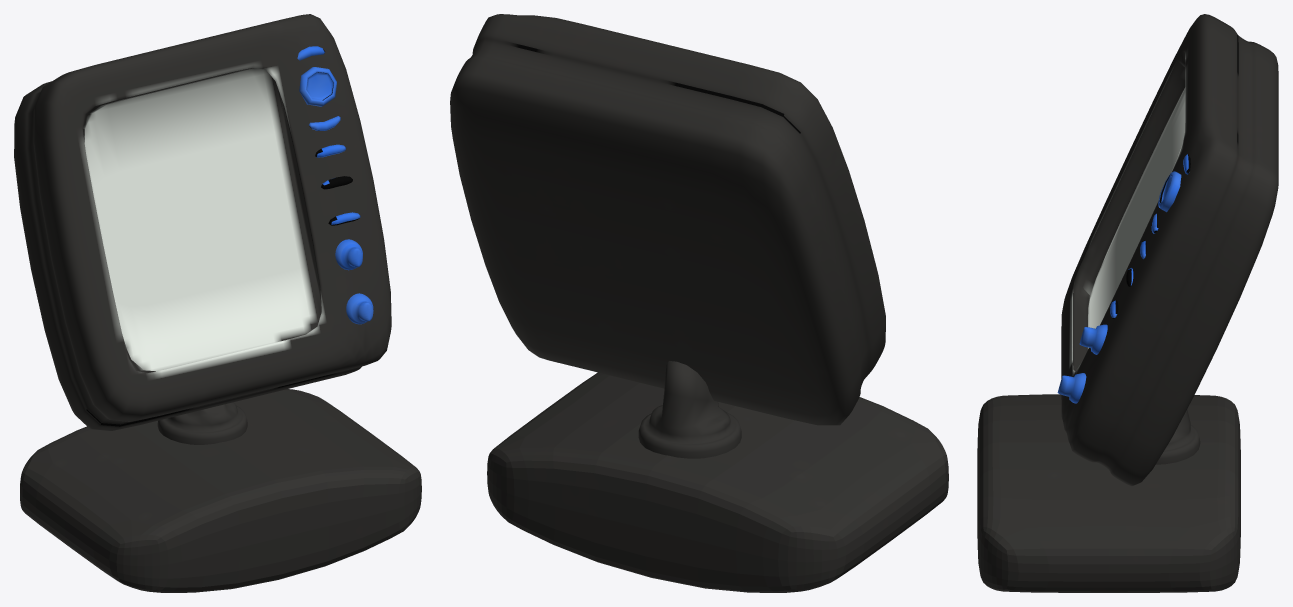
The model's file is Radar.fbx.
The picture shows the model from 3 angles, left to right: view 1: azimuth 30°, elevation 25°; view 2: azimuth 150°, elevation 25°; view 3: azimuth 270°, elevation 25°; orthographic projection. The views are drawn at different scales.
Visible parts, largest first — view 1: Radar; view 2: Radar; view 3: Radar.
Boxes of the visible parts, left/top/right/bottom form: Radar: left=14, top=14, right=421, bottom=592; Radar: left=450, top=14, right=948, bottom=592; Radar: left=977, top=14, right=1278, bottom=592.
Size of the model in its own units: 67.99 by 91.72 by 52.48.
